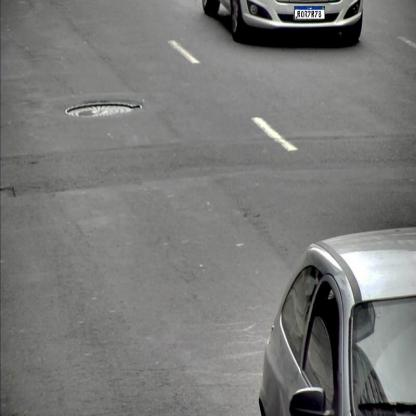PlacaM: (294, 6, 325, 20)
